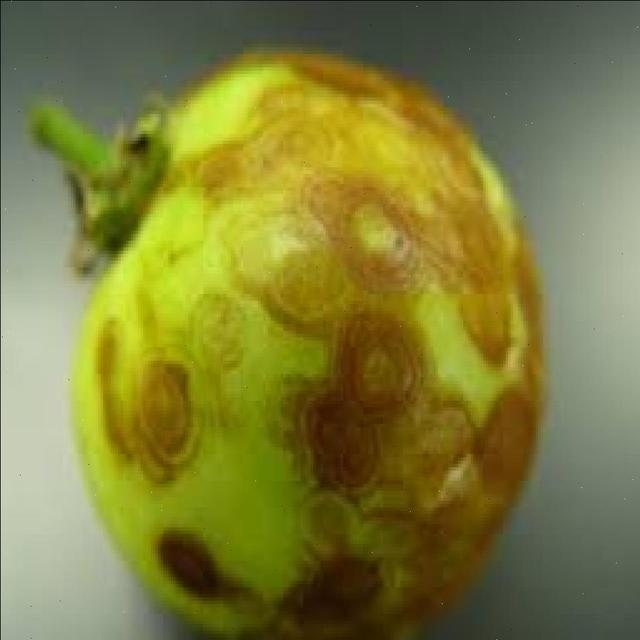Spotted wilt Virus Fruit: (129, 216, 409, 638)
